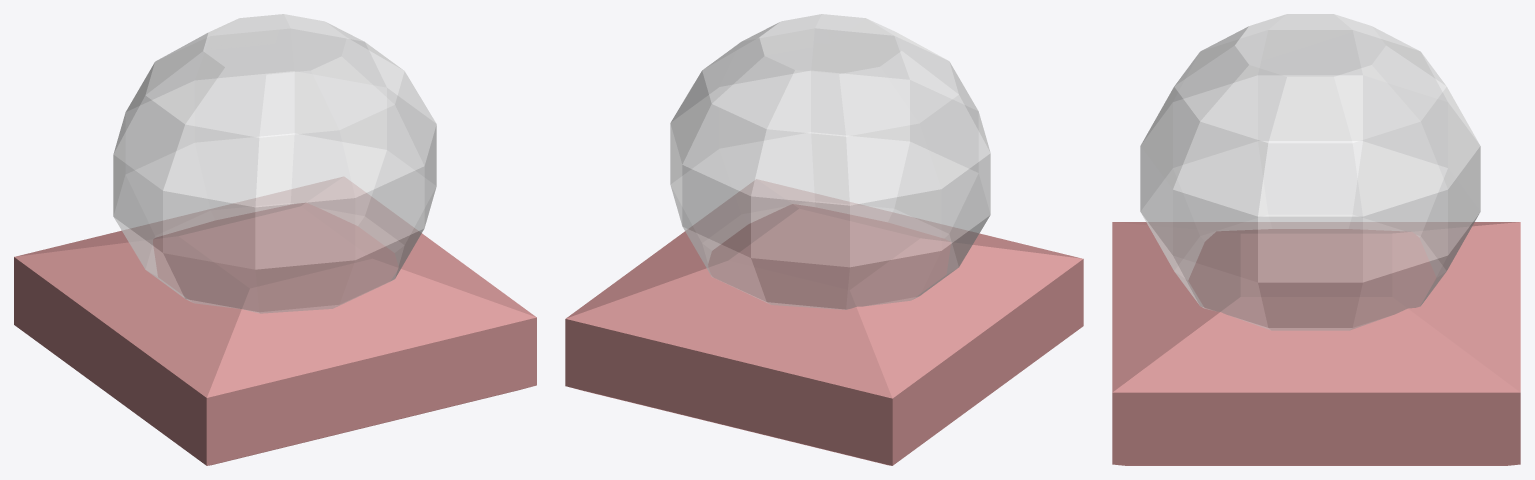
Rendered from car_red.dae.
3 renders of one model, left to right at view 1: azimuth 30°, elevation 25°; view 2: azimuth 150°, elevation 25°; view 3: azimuth 270°, elevation 25°, orthographic. The views are drawn at different scales.
Parts seen in each view (by area): view 1: car_red_007; view 2: car_red_007; view 3: car_red_007.
Part boxes in pixels (<box>): car_red_007: <box>14,14,536,465</box>; car_red_007: <box>565,14,1083,465</box>; car_red_007: <box>1112,14,1520,465</box>.
Size of the model in its own units: 0.6202 by 0.6273 by 0.5758.
